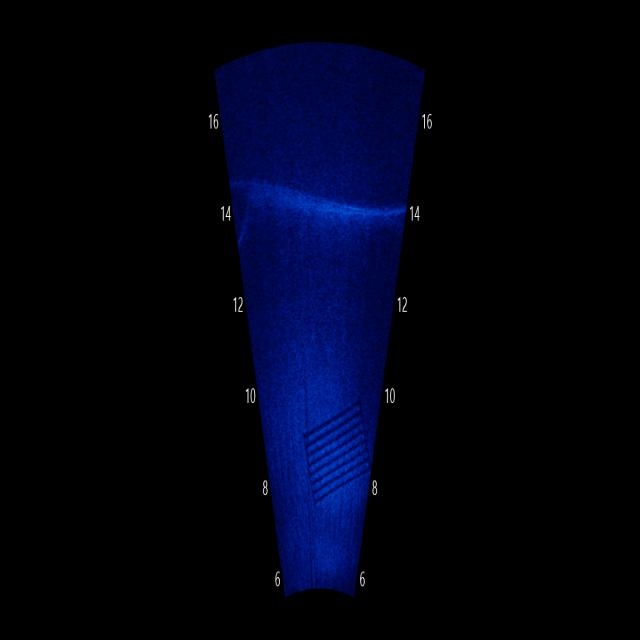square: (295, 377, 382, 505)
